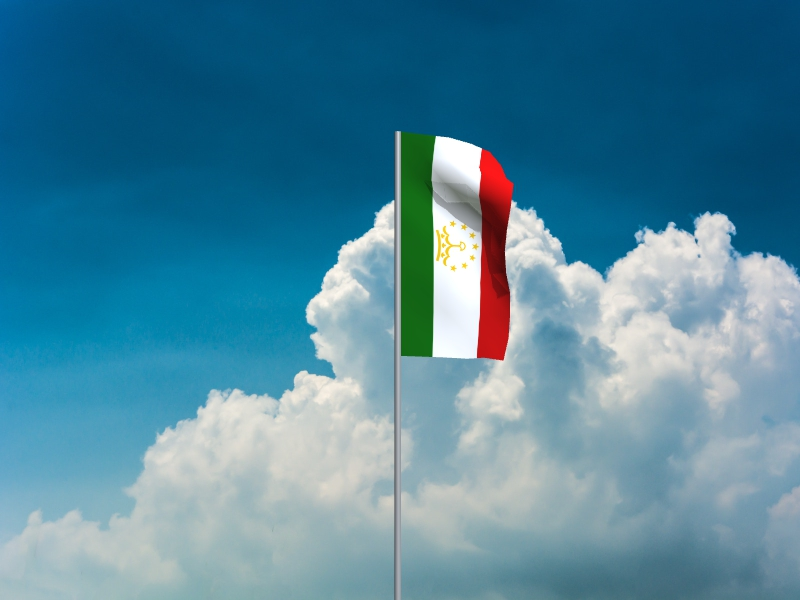tj: (401, 134, 515, 362)
